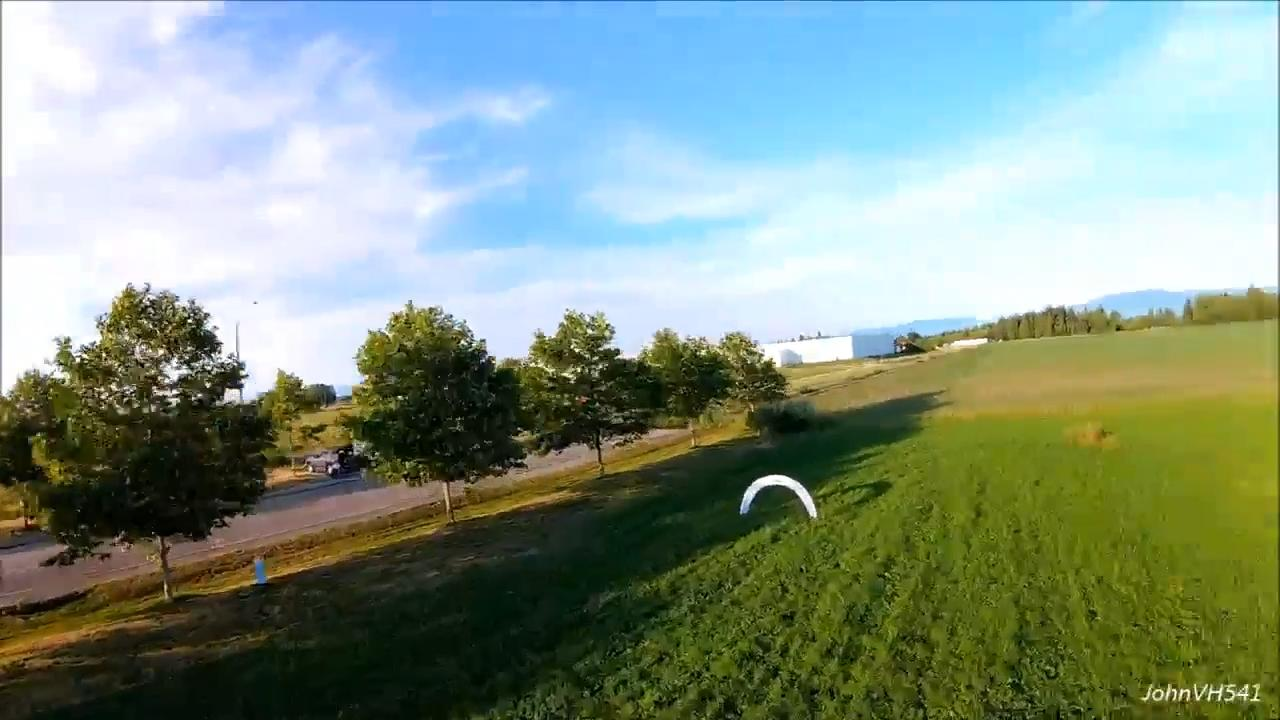gate: (741, 474, 817, 519)
